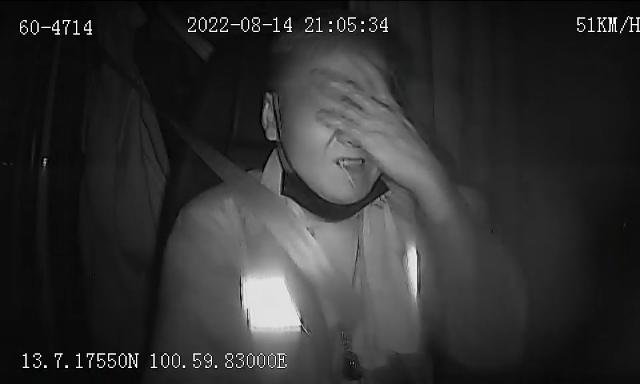Seatbelt: (191, 118, 341, 300)
